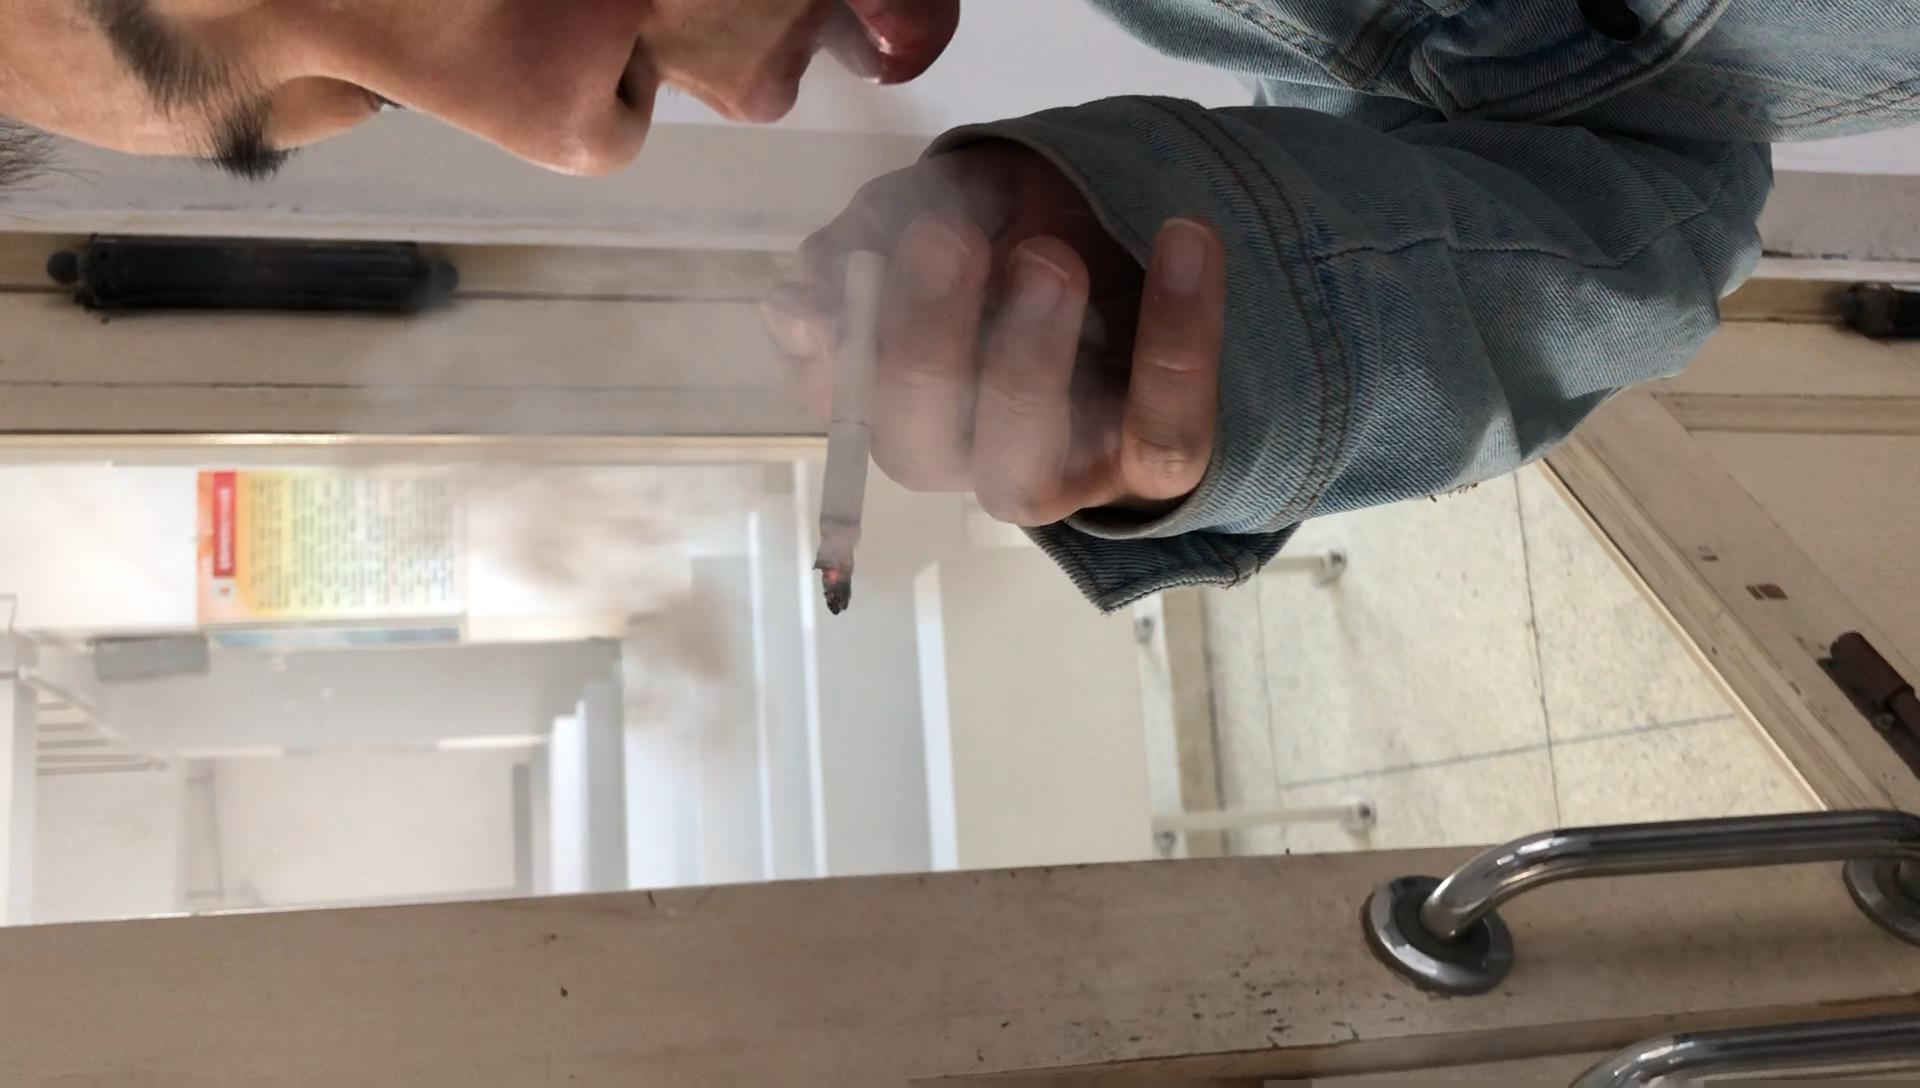yanwu: (349, 226, 767, 712)
